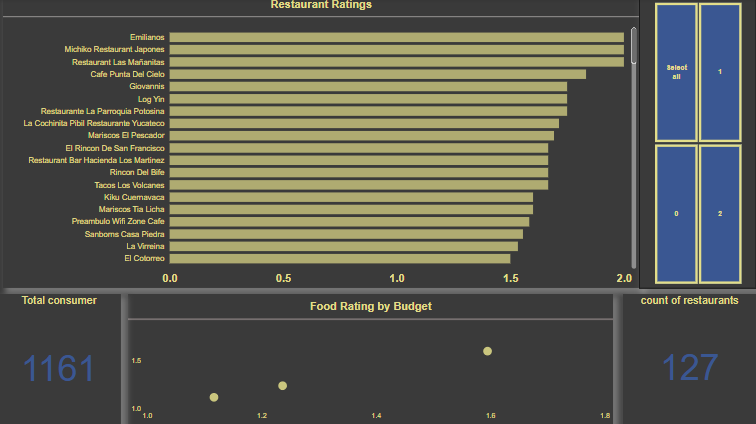

The page's visual inventory and layout, read from the dashboard file:
{"tool":"powerbi","page":{"name":"Page 3","canvas":[1280,720],"ordinal":3},"visuals":[{"type":"barChart","title":"Restaurant Ratings","fields":{"Category":["the restaurants.restaurants.Name"],"Y":["Avg(the restaurants.Overall Rating)"]},"box":[10.1,0,1073.1,489.5],"z":0},{"type":"slicer","fields":{"Values":["the restaurants.Overall Rating"]},"box":[1082.4,0,197.6,489.7],"z":1000},{"type":"scatterChart","title":"Food Rating by Budget","fields":{"Category":["consumers.Budget"],"X":["Avg(the restaurants.Food Rating)"],"Y":["Avg(the restaurants.Food Rating)"]},"box":[221.3,499.3,817.9,221.3],"z":2000},{"type":"card","title":"count of restaurants ","fields":{"Values":["Count(the restaurants.restaurants.Name)"]},"box":[1055.2,499.3,224.8,221.3],"z":3000},{"type":"card","title":"Total consumer ","fields":{"Values":["the restaurants.count of consumers"]},"box":[0,499.3,208.9,221.3],"z":4000}]}

Visuals, with their boxes in screenshot pixels (x1, y1, x2, y2), scaled from the page's 1280x720 canvas onto the 756x424 screenshot:
"Restaurant Ratings" barChart: l=6, t=0, r=640, b=288
slicer - the restaurants.Overall Rating: l=639, t=0, r=755, b=288
"Food Rating by Budget" scatterChart: l=131, t=294, r=614, b=423
"count of restaurants " card: l=623, t=294, r=755, b=423
"Total consumer " card: l=0, t=294, r=123, b=423
